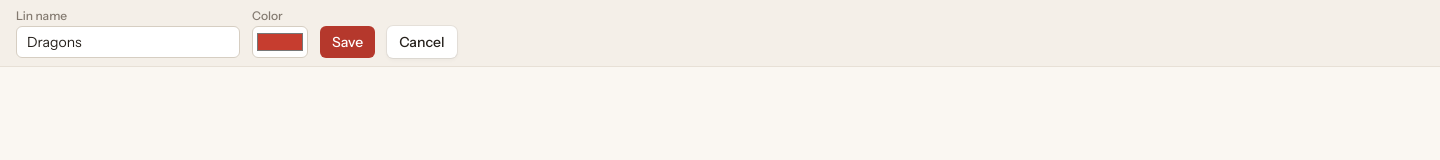
Test: LinEditor › shows why a save was refused, translated
The width and height of the screenshot is (1440, 160).
Click the button "Save".
click(348, 42)  # box [320,26,375,58]
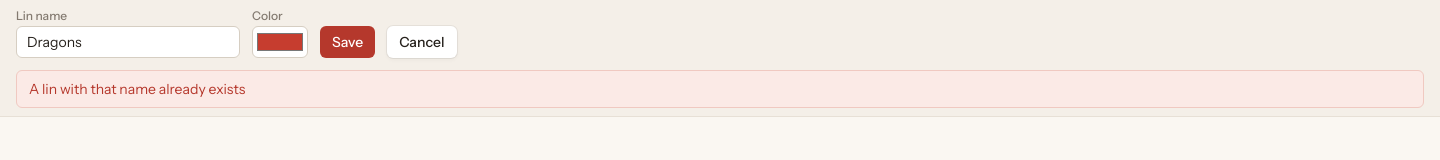
Result: the message reads "A lin with that name already exists" at [29,80,245,98]
